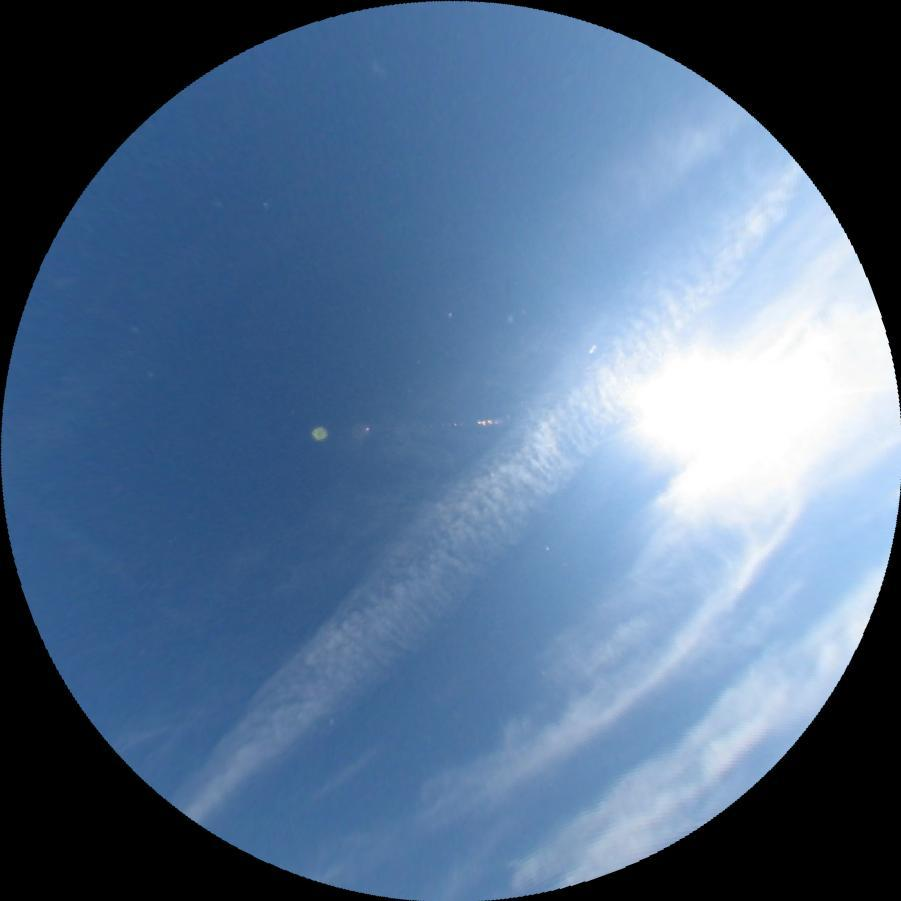contrail veryold: (159, 130, 834, 852)
contrail young: (505, 857, 529, 868)
sun: (639, 334, 788, 472)
